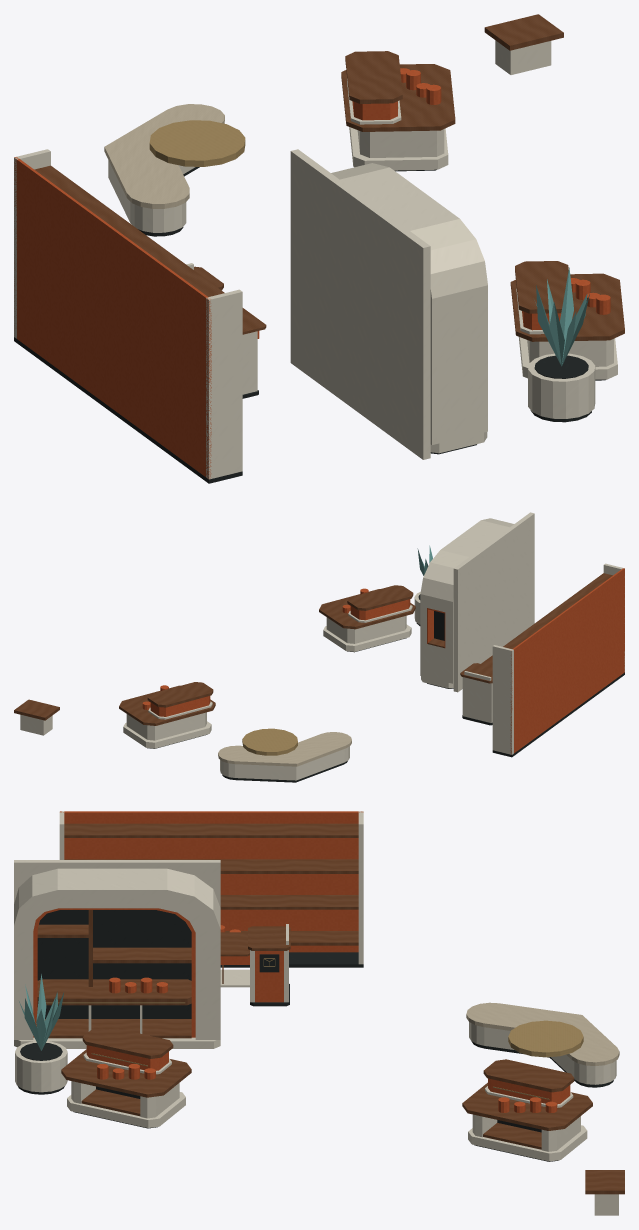
File: SHOP_D09_P100_A132__fitout.glb
The picture shows the model from 3 angles, top to bottom: view 1: azimuth 30°, elevation 25°; view 2: azimuth 150°, elevation 25°; view 3: azimuth 270°, elevation 25°; orthographic projection. The views are drawn at different scales.
Visible parts, largest first — view 1: SHOP_D09_P100_A132__fitout__ivory_enamel, SHOP_D09_P100_A132__fitout__retail_terracotta_enamel, SHOP_D09_P100_A132__fitout__warm_walnut, SHOP_D09_P100_A132__fitout__oatmeal_weave, SHOP_D09_P100_A132__fitout__champagne_metal, SHOP_D09_P100_A132__fitout__dark_rubber, SHOP_D09_P100_A132__fitout__quiet_teal; view 2: SHOP_D09_P100_A132__fitout__ivory_enamel, SHOP_D09_P100_A132__fitout__retail_terracotta_enamel, SHOP_D09_P100_A132__fitout__warm_walnut, SHOP_D09_P100_A132__fitout__oatmeal_weave, SHOP_D09_P100_A132__fitout__dark_rubber, SHOP_D09_P100_A132__fitout__champagne_metal; view 3: SHOP_D09_P100_A132__fitout__warm_walnut, SHOP_D09_P100_A132__fitout__ivory_enamel, SHOP_D09_P100_A132__fitout__retail_terracotta_enamel, SHOP_D09_P100_A132__fitout__dark_rubber, SHOP_D09_P100_A132__fitout__oatmeal_weave, SHOP_D09_P100_A132__fitout__champagne_metal, SHOP_D09_P100_A132__fitout__quiet_teal.
Boxes of the visible parts, x1,y1,x2,y2 form: SHOP_D09_P100_A132__fitout__ivory_enamel: (14,40,617,479); SHOP_D09_P100_A132__fitout__retail_terracotta_enamel: (14,68,610,478); SHOP_D09_P100_A132__fitout__warm_walnut: (34,14,624,341); SHOP_D09_P100_A132__fitout__oatmeal_weave: (104,104,224,208); SHOP_D09_P100_A132__fitout__champagne_metal: (149,107,398,166); SHOP_D09_P100_A132__fitout__dark_rubber: (14,167,605,483); SHOP_D09_P100_A132__fitout__quiet_teal: (534,267,589,366); SHOP_D09_P100_A132__fitout__ivory_enamel: (20,512,624,780); SHOP_D09_P100_A132__fitout__retail_terracotta_enamel: (142,568,624,754); SHOP_D09_P100_A132__fitout__warm_walnut: (14,573,612,725); SHOP_D09_P100_A132__fitout__oatmeal_weave: (218,732,351,766); SHOP_D09_P100_A132__fitout__dark_rubber: (147,594,624,782); SHOP_D09_P100_A132__fitout__champagne_metal: (242,728,297,755); SHOP_D09_P100_A132__fitout__warm_walnut: (37,823,624,1194); SHOP_D09_P100_A132__fitout__ivory_enamel: (14,811,618,1215); SHOP_D09_P100_A132__fitout__retail_terracotta_enamel: (33,811,570,1112); SHOP_D09_P100_A132__fitout__dark_rubber: (18,910,613,1161); SHOP_D09_P100_A132__fitout__oatmeal_weave: (466,1002,619,1065); SHOP_D09_P100_A132__fitout__champagne_metal: (46,958,583,1099); SHOP_D09_P100_A132__fitout__quiet_teal: (19,974,63,1050).
Size of the model in its own units: 10.25 by 3 by 10.05.
Materials: 7 (6 with a texture image).
